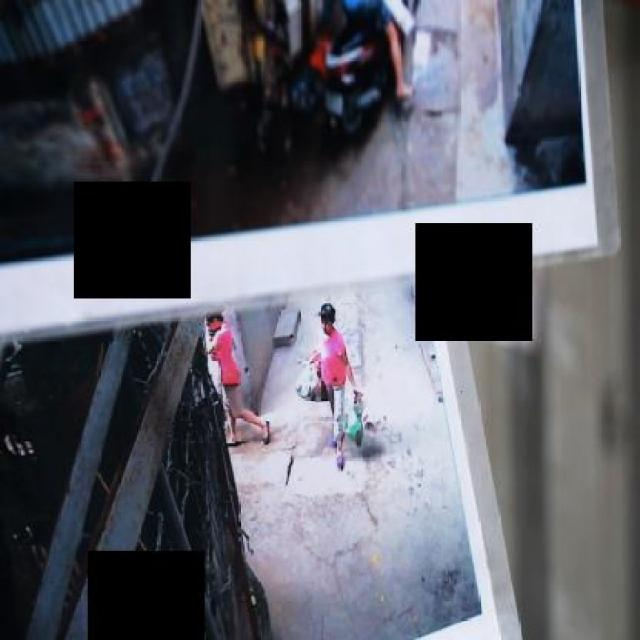plastic bag: (337, 394, 386, 448), (289, 362, 331, 408)
